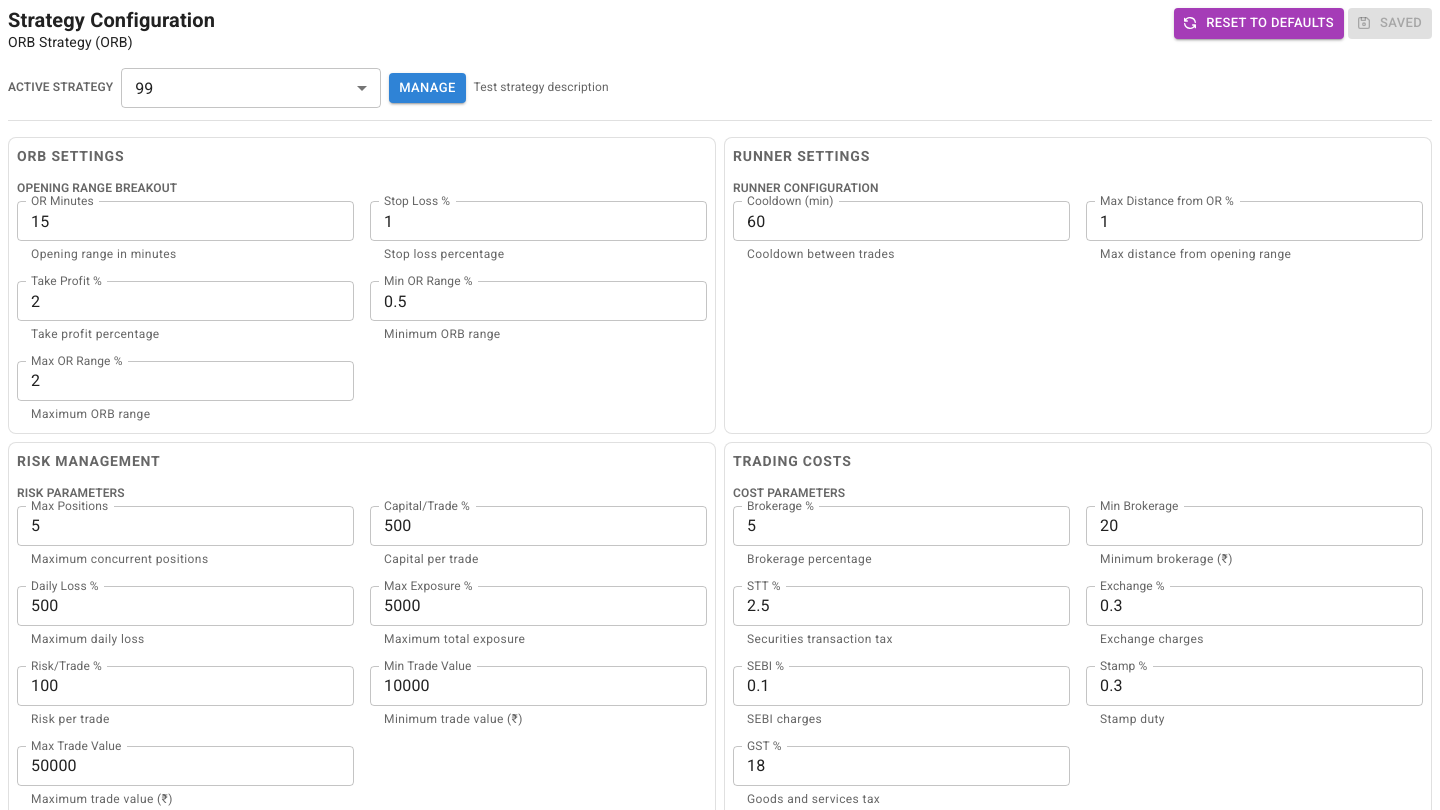
Test: PaperSettings › SettingsContent rendering › strategy selector with options marks default with '(Default)'
Expected: the element with test id "strategy-selector" is shown, [121, 68, 381, 108]
Options render in the dropdown Menu (portal) once opened
Click the dropdown at (144, 88), box [135, 78, 154, 98]
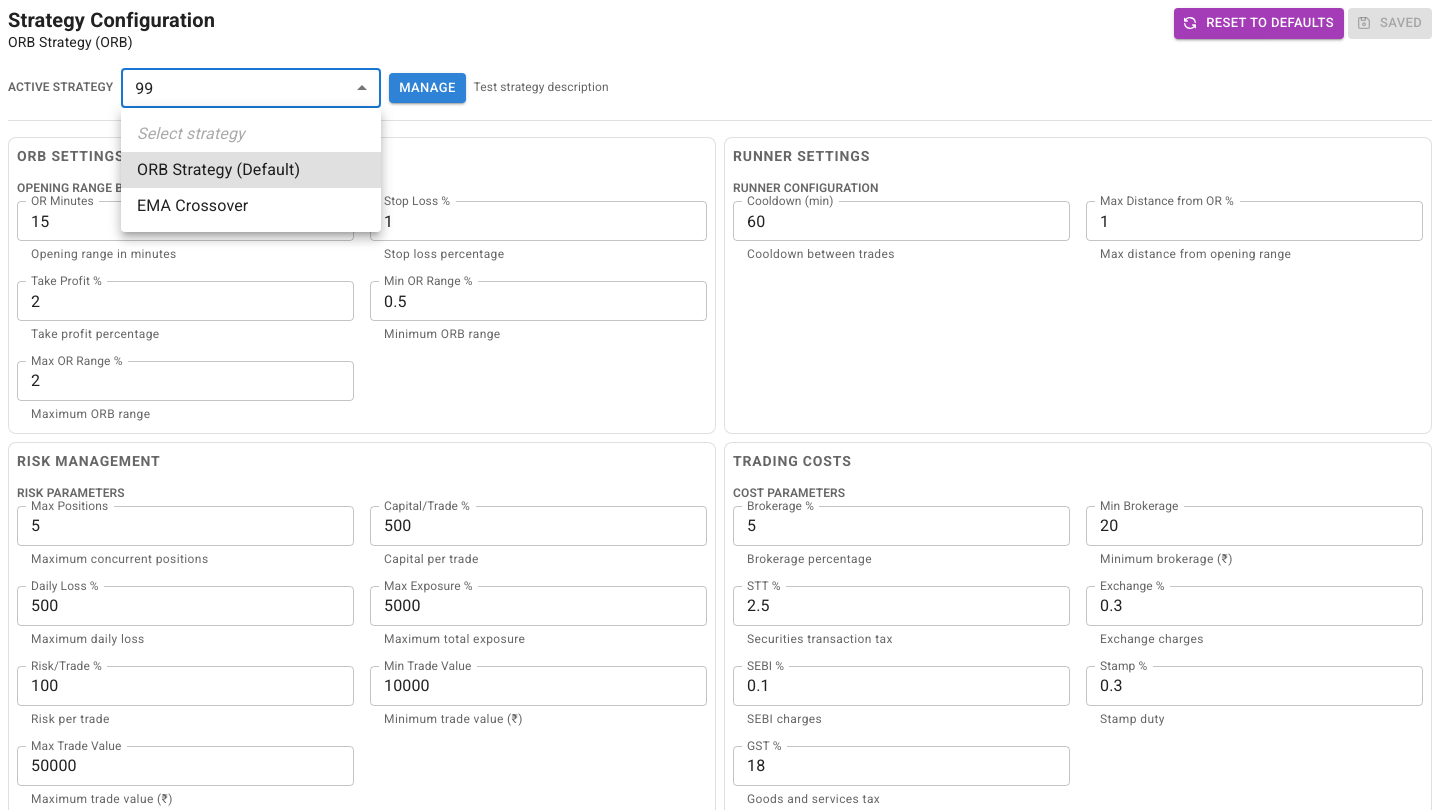
Expected: the option "ORB Strategy (Default)" is shown, [121, 152, 381, 188]
